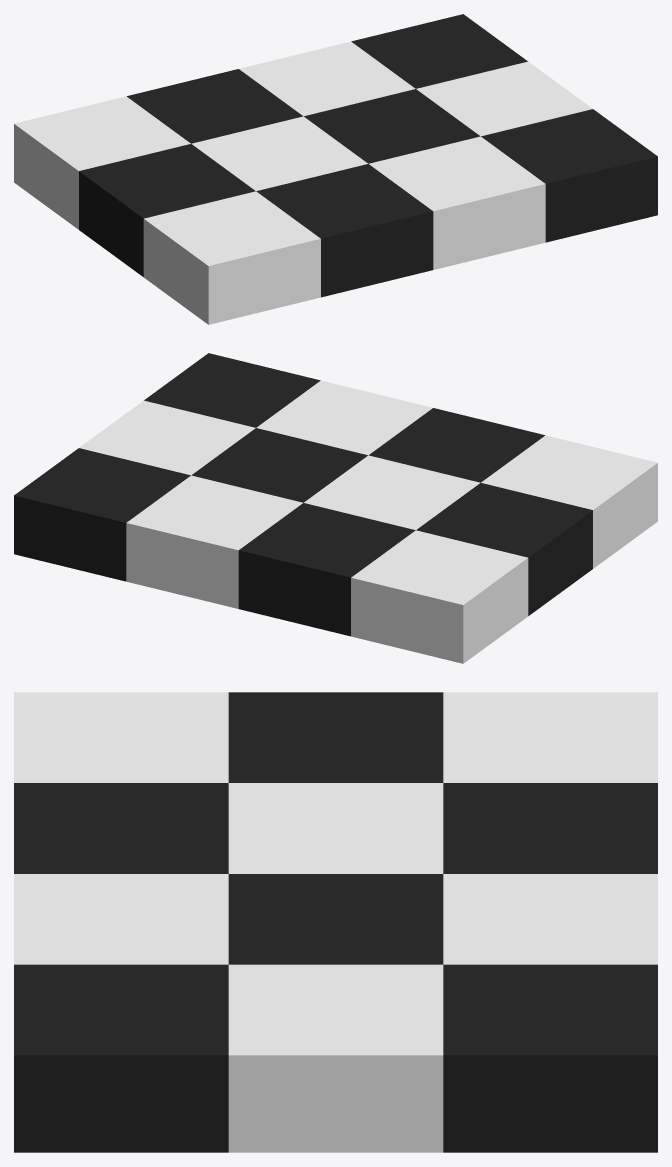
Rendered from startingblock.obj.
The picture shows the model from 3 angles, top to bottom: view 1: azimuth 30°, elevation 25°; view 2: azimuth 150°, elevation 25°; view 3: azimuth 270°, elevation 25°; orthographic projection. The views are drawn at different scales.
Bounding box in the file's own units: 40 × 5 × 30.
1 material, 1 textured.
